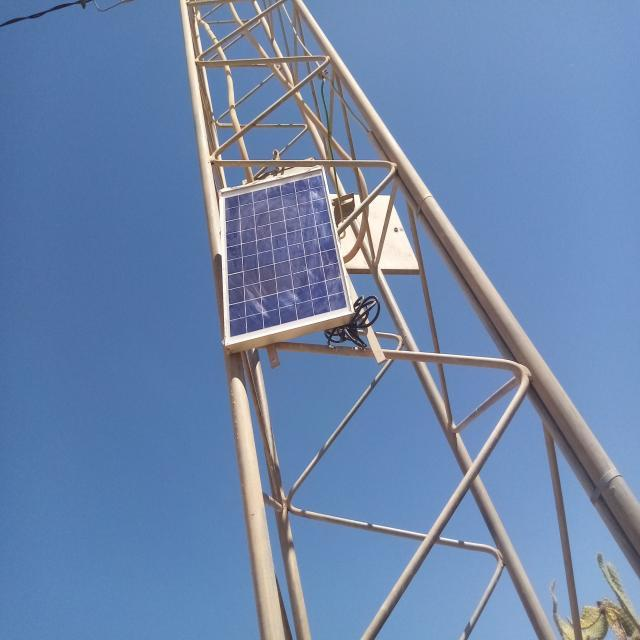no faulty: (220, 168, 353, 346)
